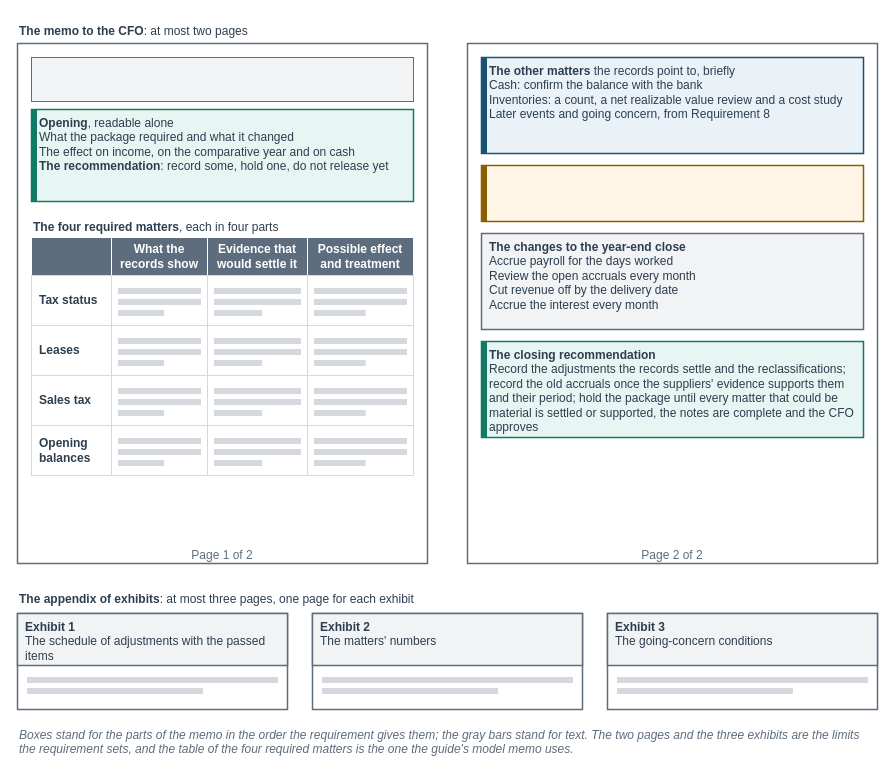
The diagram is 896 pixels wide and 778 high, and some of its shapes have lost their labels. The centre of each missing label's shape, as x and y in pixels:
Header To the CFO, from the staff accountant, date, subject: (x=222, y=79)
Matter: (x=71, y=256)
The passed items for the CFO's approval Their total and its share of materiality: (x=672, y=193)
